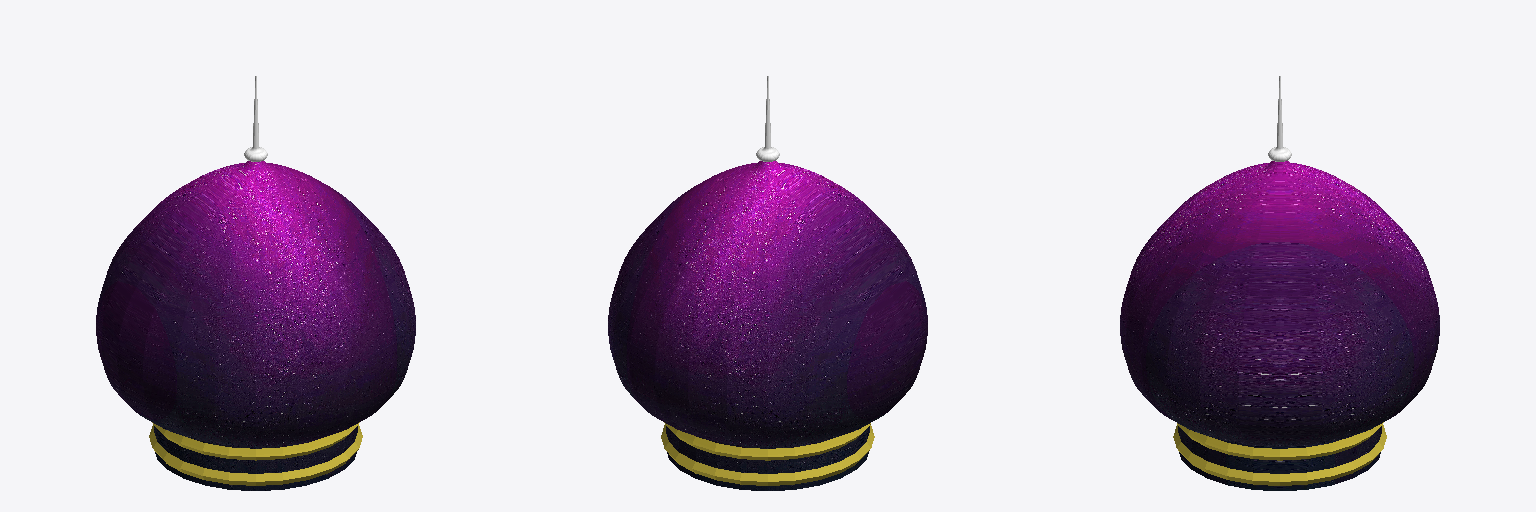
The picture shows the model from 3 angles: view 1: azimuth 30°, elevation 25°; view 2: azimuth 150°, elevation 25°; view 3: azimuth 270°, elevation 25°; orthographic projection.
Parts seen in each view (by area): view 1: Mesh1 Component_1_1 Model; view 2: Mesh1 Component_1_1 Model; view 3: Mesh1 Component_1_1 Model.
Boxes of the visible parts, box(x1,y1,x2,y2) form: Mesh1 Component_1_1 Model: box(96, 76, 415, 490); Mesh1 Component_1_1 Model: box(608, 76, 927, 490); Mesh1 Component_1_1 Model: box(1120, 76, 1439, 490).
Size of the model in its own units: 206 by 273 by 206.
Materials: 3 (2 with a texture image).